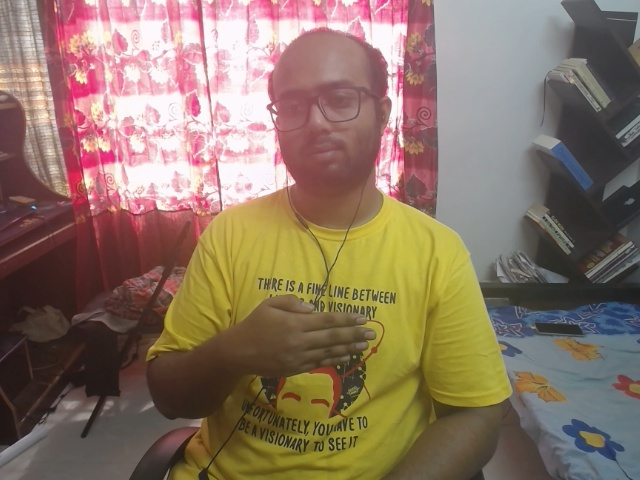north: (217, 280, 389, 395)
